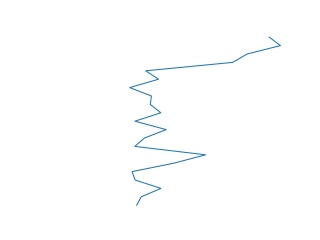crevasseRiverChannelBar: (128, 34, 288, 210)
